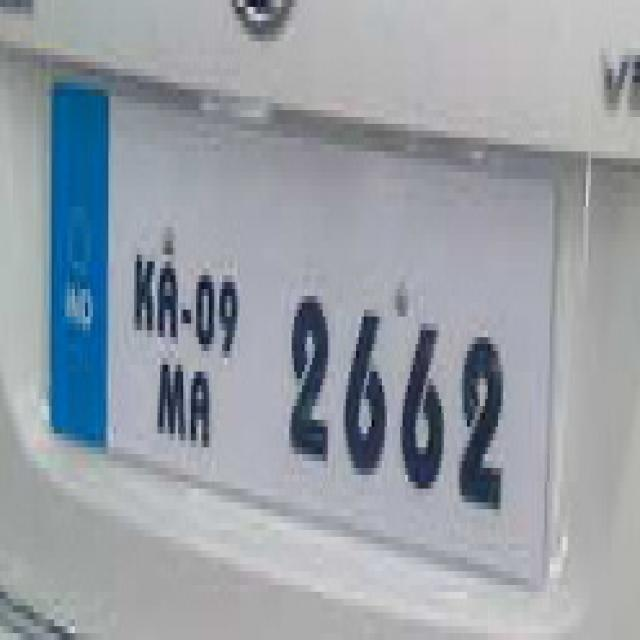0: (193, 245, 216, 360)
6: (396, 272, 448, 524), (336, 286, 392, 504)
9: (217, 262, 240, 383)
A: (188, 342, 212, 456), (158, 242, 179, 349)
K: (130, 238, 156, 348)
M: (158, 351, 187, 462)
